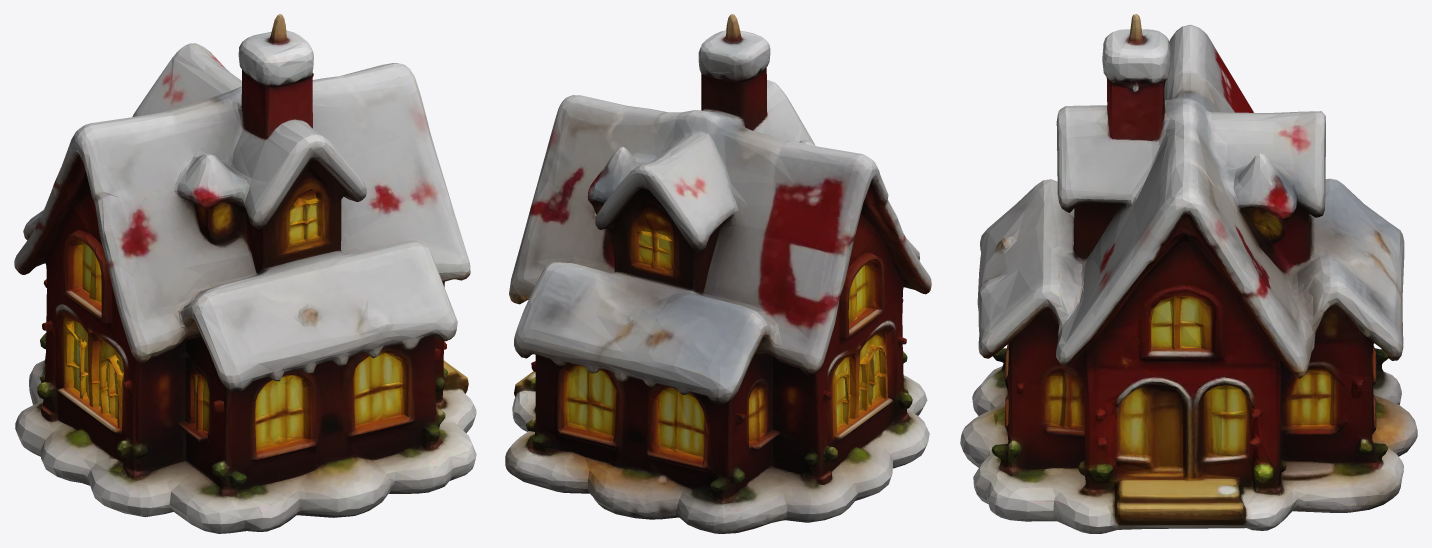
3 renders of one model, left to right at view 1: azimuth 30°, elevation 25°; view 2: azimuth 150°, elevation 25°; view 3: azimuth 270°, elevation 25°, orthographic. The views are drawn at different scales.
Parts seen in each view (by area): view 1: world; view 2: world; view 3: world.
Part boxes in pixels (<box>): world: <box>14,14,476,533</box>; world: <box>505,14,931,533</box>; world: <box>960,14,1417,533</box>.
Size of the model in its own units: 0.895 by 0.9979 by 0.9239.
1 material, 1 textured.
